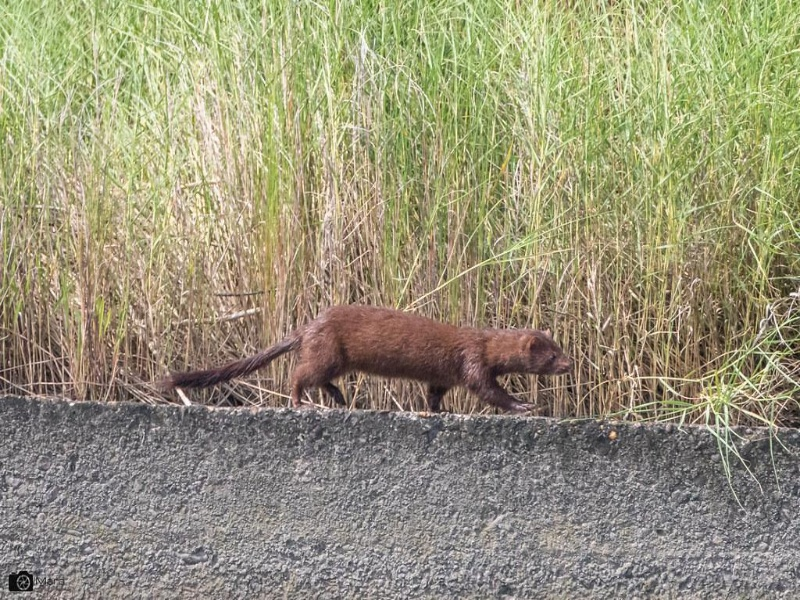minkish: (160, 301, 575, 415)
